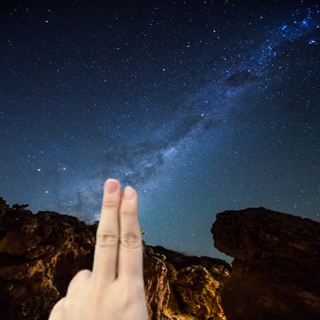DHAVE: (43, 174, 155, 320)
